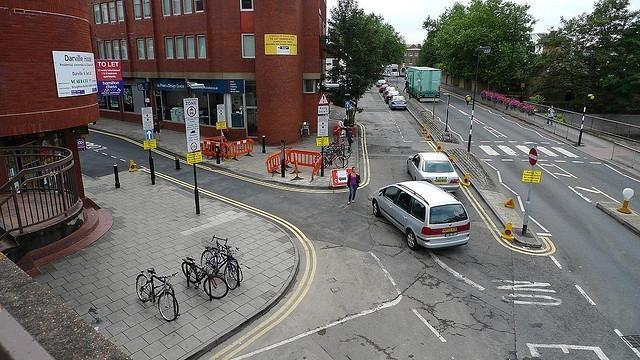bicycle: (136, 268, 180, 321), (182, 254, 228, 298), (200, 246, 240, 290), (318, 148, 349, 168), (328, 142, 352, 158)
car: (367, 180, 476, 252), (404, 151, 462, 193), (388, 96, 408, 109), (382, 86, 397, 98), (387, 90, 398, 100), (379, 84, 388, 93), (375, 80, 385, 86)
truck: (405, 66, 442, 103)
